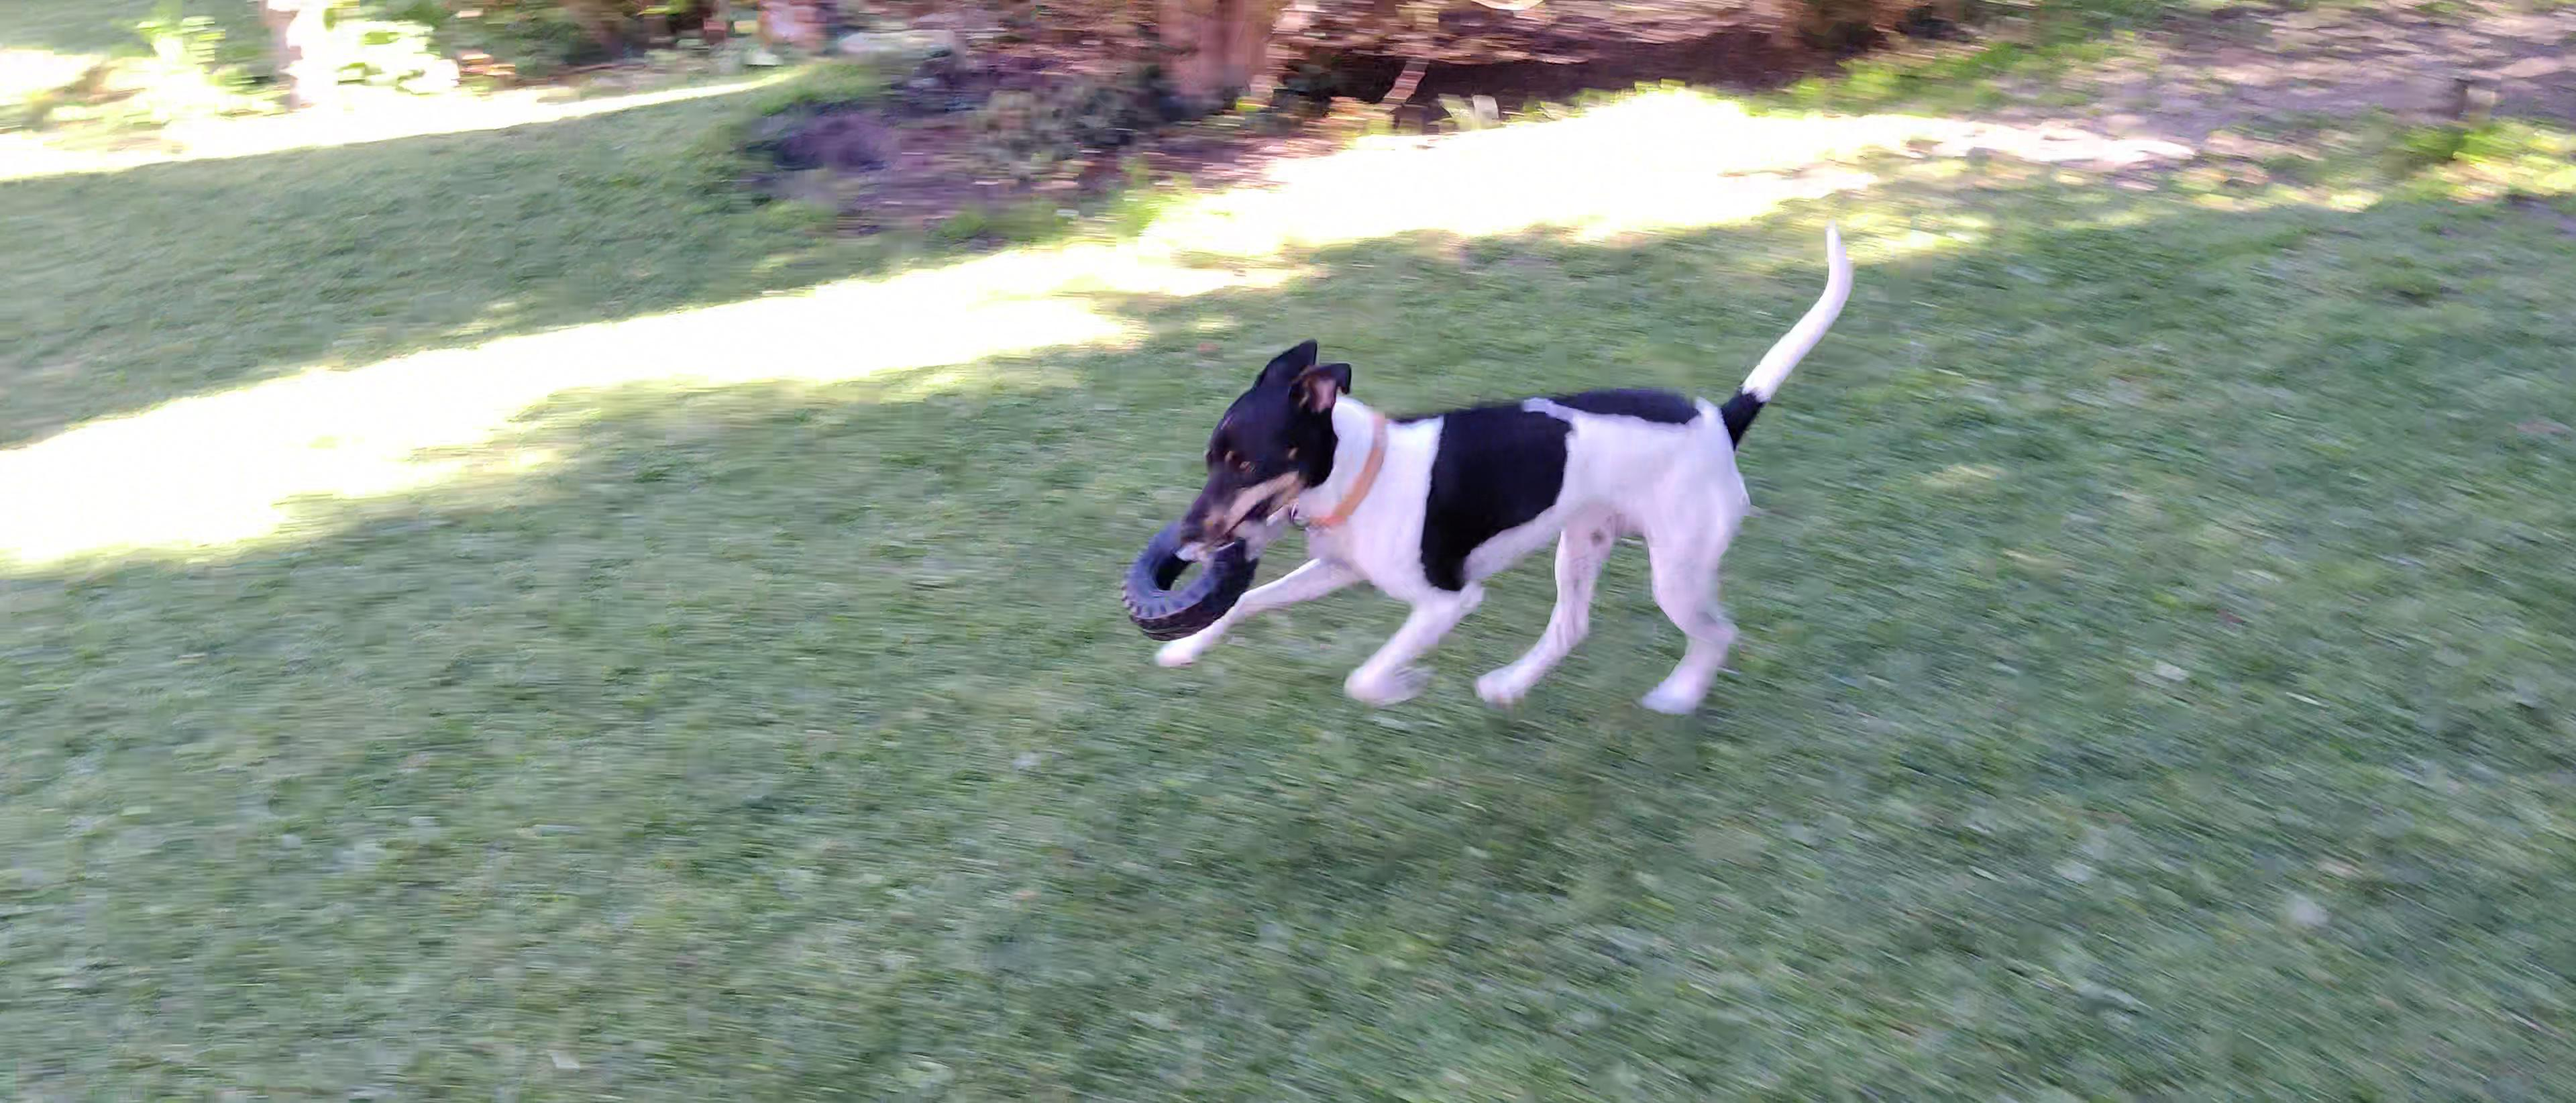Dog: (1124, 204, 1873, 733)
